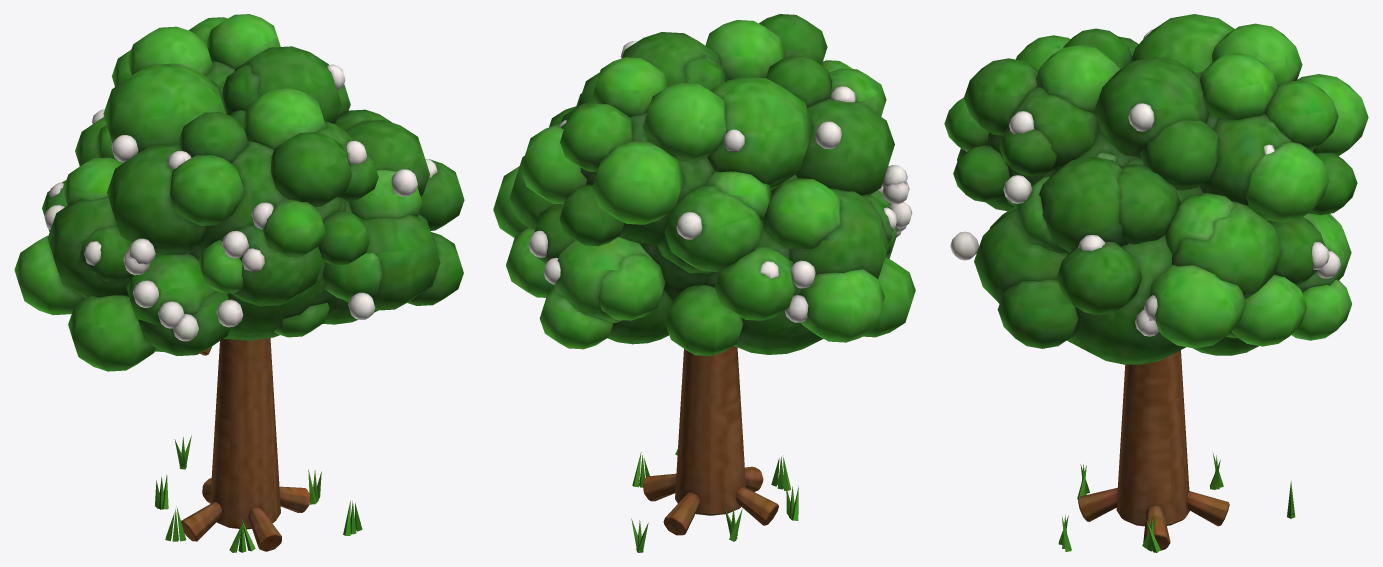
The model's file is nashi_tree.glb.
3 views of the same model, side by side, from view 1: azimuth 30°, elevation 25°; view 2: azimuth 150°, elevation 25°; view 3: azimuth 270°, elevation 25° (orthographic). The views are drawn at different scales.
Visible parts, largest first — view 1: crown, nashi_tree; view 2: crown, nashi_tree; view 3: crown, nashi_tree.
Part boxes in pixels (bbox=[...]): crown: bbox=[14, 14, 464, 371]; nashi_tree: bbox=[155, 338, 362, 552]; crown: bbox=[493, 14, 915, 355]; nashi_tree: bbox=[631, 345, 798, 552]; crown: bbox=[944, 14, 1368, 364]; nashi_tree: bbox=[1058, 350, 1295, 552].
Size of the model in its own units: 1.13 by 1.3 by 1.03.
1 material, 1 textured.
